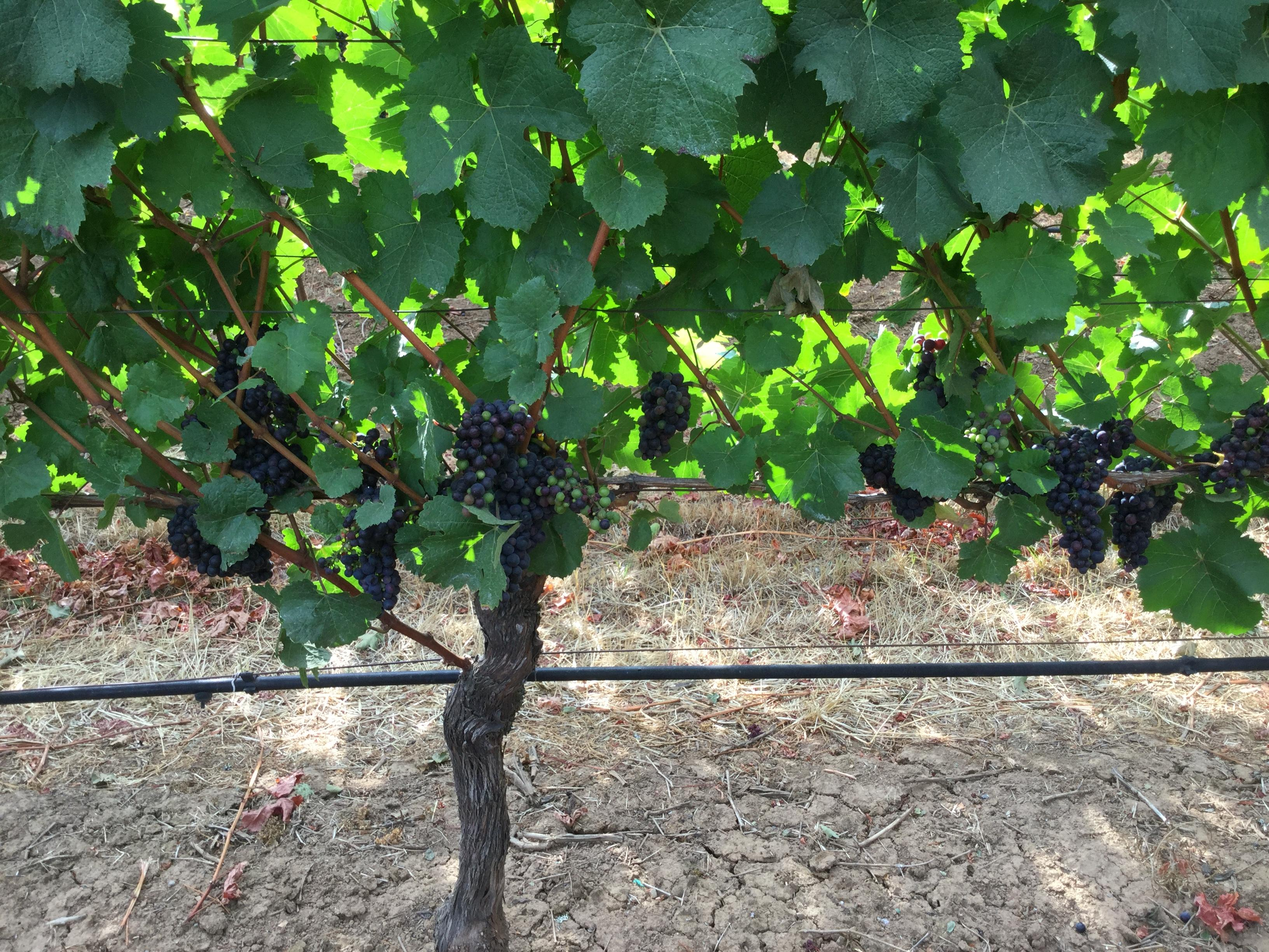leaf: (401, 26, 590, 228), (939, 27, 1112, 217), (568, 0, 775, 154), (789, 0, 963, 133), (0, 87, 114, 236), (1142, 84, 1268, 213), (1138, 516, 1268, 633), (1099, 0, 1249, 92), (360, 172, 461, 308), (870, 117, 972, 247), (222, 88, 344, 187), (0, 0, 132, 91), (737, 31, 831, 156), (253, 578, 382, 669), (968, 222, 1075, 329), (507, 183, 598, 304), (742, 166, 847, 267), (629, 151, 726, 254), (290, 167, 371, 273), (773, 432, 864, 521), (142, 128, 232, 216), (251, 301, 334, 392), (893, 416, 975, 497), (0, 497, 79, 581), (584, 149, 666, 229), (1125, 233, 1213, 306), (196, 475, 266, 565), (496, 276, 562, 368), (25, 80, 113, 142), (834, 210, 902, 282), (200, 0, 288, 53), (720, 138, 781, 214), (538, 373, 606, 441), (122, 361, 186, 430), (77, 429, 142, 496), (692, 425, 756, 488), (529, 511, 588, 577), (472, 527, 518, 607), (740, 314, 801, 373), (0, 441, 51, 510), (1088, 205, 1154, 258), (991, 495, 1050, 549), (1206, 363, 1265, 413), (957, 539, 1018, 584), (310, 446, 362, 497), (1235, 4, 1268, 83), (356, 485, 396, 528), (977, 369, 1016, 407), (626, 509, 659, 551), (310, 503, 344, 539), (816, 246, 833, 264), (813, 265, 818, 276), (608, 142, 617, 147), (632, 142, 638, 147), (1202, 503, 1213, 505), (801, 166, 805, 170), (476, 25, 479, 30), (196, 200, 198, 206), (476, 32, 477, 36), (329, 173, 332, 174), (770, 169, 773, 170), (169, 79, 170, 81), (588, 172, 589, 174), (495, 378, 499, 378), (640, 14, 641, 14)
